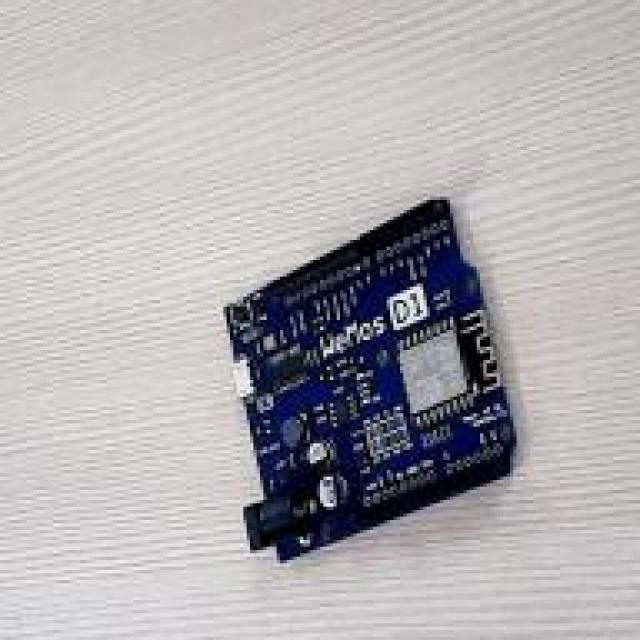Wemos: (224, 201, 511, 558)
